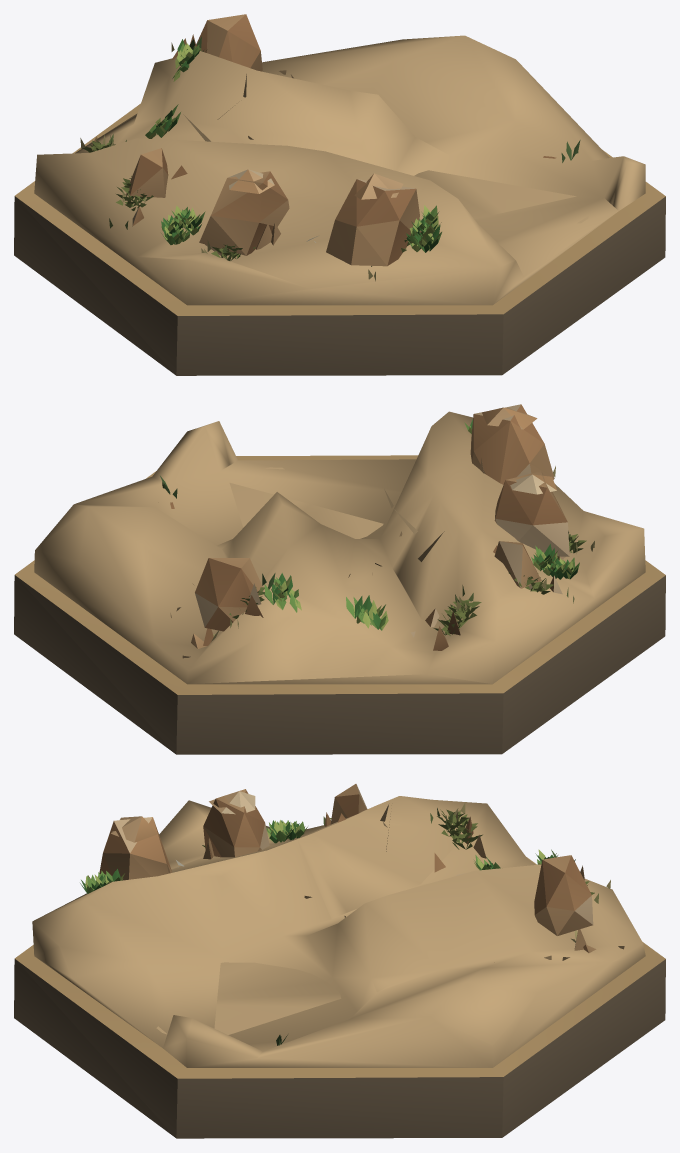
Rendered from tile_desert_lod1.glb.
3 renders of one model, top to bottom at view 1: azimuth 30°, elevation 25°; view 2: azimuth 150°, elevation 25°; view 3: azimuth 270°, elevation 25°, orthographic.
Visible parts, largest first — view 1: tile_desert_LOD1; view 2: tile_desert_LOD1; view 3: tile_desert_LOD1.
Part boxes in pixels (x1,y1,x2,y2): tile_desert_LOD1: [14, 14, 665, 375]; tile_desert_LOD1: [14, 404, 665, 754]; tile_desert_LOD1: [14, 784, 665, 1138].
Size of the model in its own units: 1.72 by 0.6141 by 1.98.
